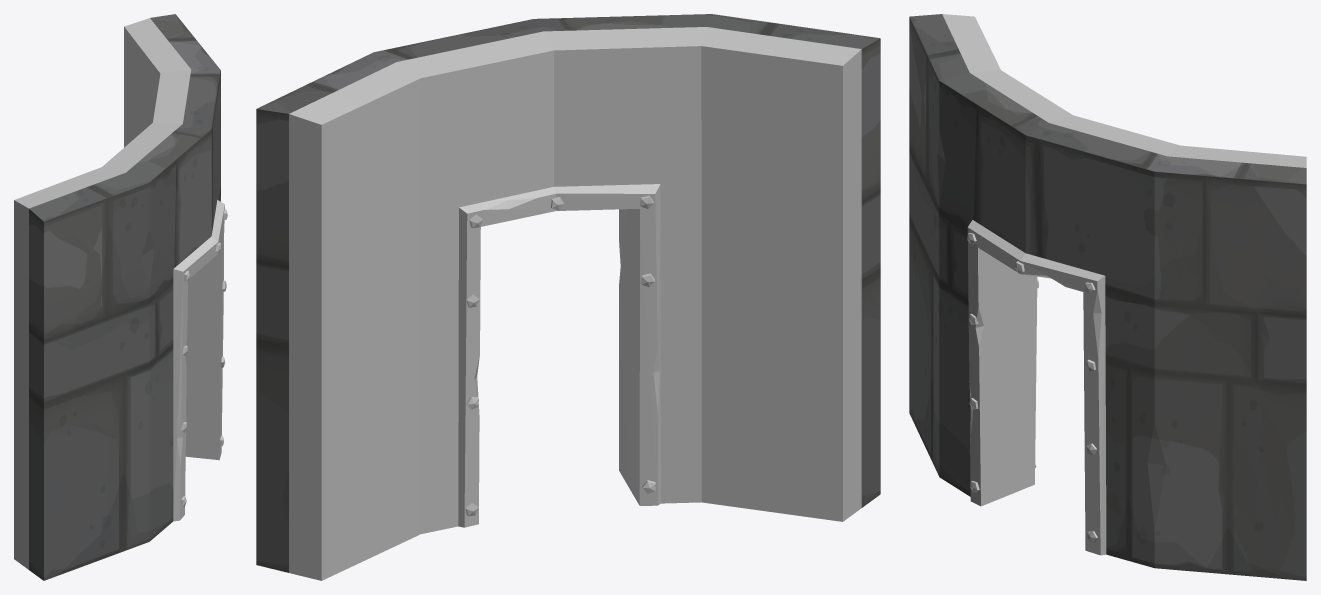
The model's file is SM_Bld_Wall_L_Curve_Door_01.fbx.
The picture shows the model from 3 angles, left to right: view 1: azimuth 30°, elevation 25°; view 2: azimuth 150°, elevation 25°; view 3: azimuth 270°, elevation 25°; orthographic projection. The views are drawn at different scales.
Visible parts, largest first — view 1: SM_Bld_Wall_L_Curve_Door_01; view 2: SM_Bld_Wall_L_Curve_Door_01; view 3: SM_Bld_Wall_L_Curve_Door_01.
Boxes of the visible parts, x1=… form: SM_Bld_Wall_L_Curve_Door_01: x1=14, y1=14, x2=227, y2=580; SM_Bld_Wall_L_Curve_Door_01: x1=256, y1=14, x2=880, y2=580; SM_Bld_Wall_L_Curve_Door_01: x1=909, y1=14, x2=1306, y2=580.
Size of the model in its own units: 272 by 302 by 272.
